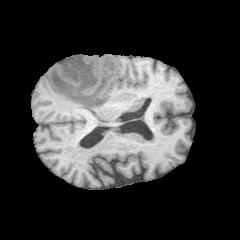glioma: (51, 54, 119, 112)
